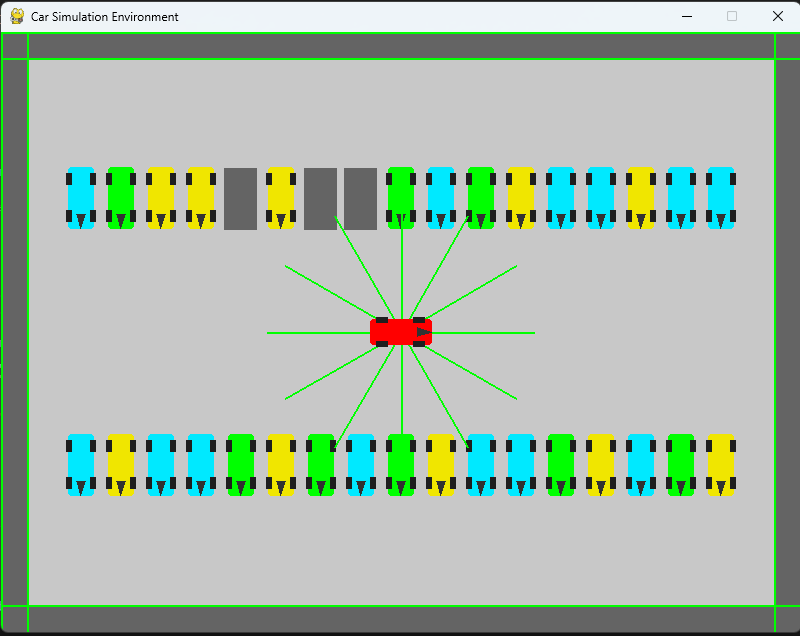ControlledCar: (361, 308, 436, 354)
ParkedCar: (260, 158, 300, 236), (702, 425, 742, 501), (61, 159, 101, 233), (502, 428, 541, 500), (581, 160, 618, 235), (141, 160, 179, 232), (503, 162, 539, 235), (262, 428, 298, 501), (662, 161, 699, 232), (463, 430, 498, 505), (381, 165, 420, 230), (144, 425, 179, 497), (422, 434, 460, 500), (62, 429, 98, 498), (621, 430, 657, 499), (624, 162, 657, 236), (542, 431, 579, 497), (423, 165, 458, 234), (183, 428, 217, 499), (224, 428, 258, 499), (584, 429, 618, 500), (662, 429, 696, 500), (341, 431, 378, 496), (463, 165, 498, 232), (544, 161, 577, 232), (303, 428, 336, 499), (103, 164, 137, 232), (185, 164, 219, 231), (705, 161, 736, 234), (387, 430, 415, 503), (106, 433, 136, 496)
ParkingSpot: (222, 161, 263, 238), (302, 160, 342, 233), (343, 164, 379, 233)
